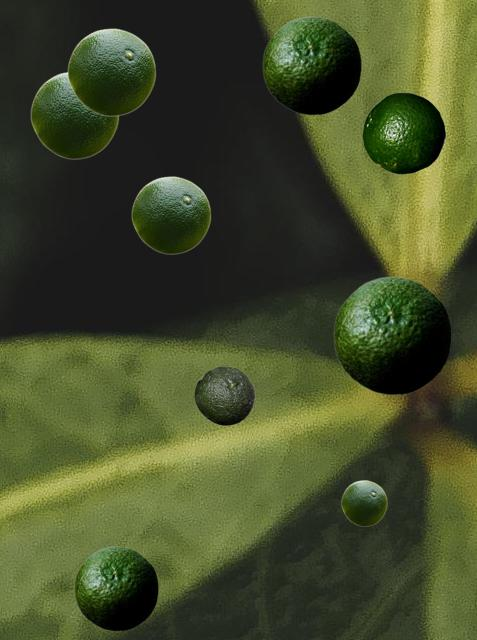calamansi: (333, 276, 450, 394), (262, 16, 360, 114), (67, 28, 155, 115), (30, 72, 118, 158), (74, 546, 157, 630), (362, 92, 445, 173), (131, 176, 210, 253), (194, 366, 254, 424), (341, 480, 386, 525)
